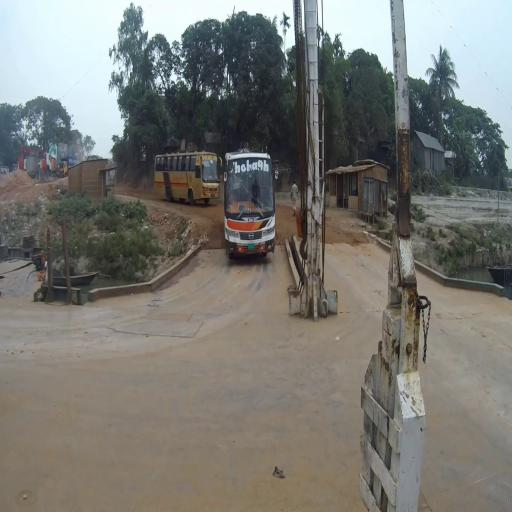bus: (225, 148, 277, 259), (154, 152, 222, 204)
truck: (59, 157, 75, 179)
